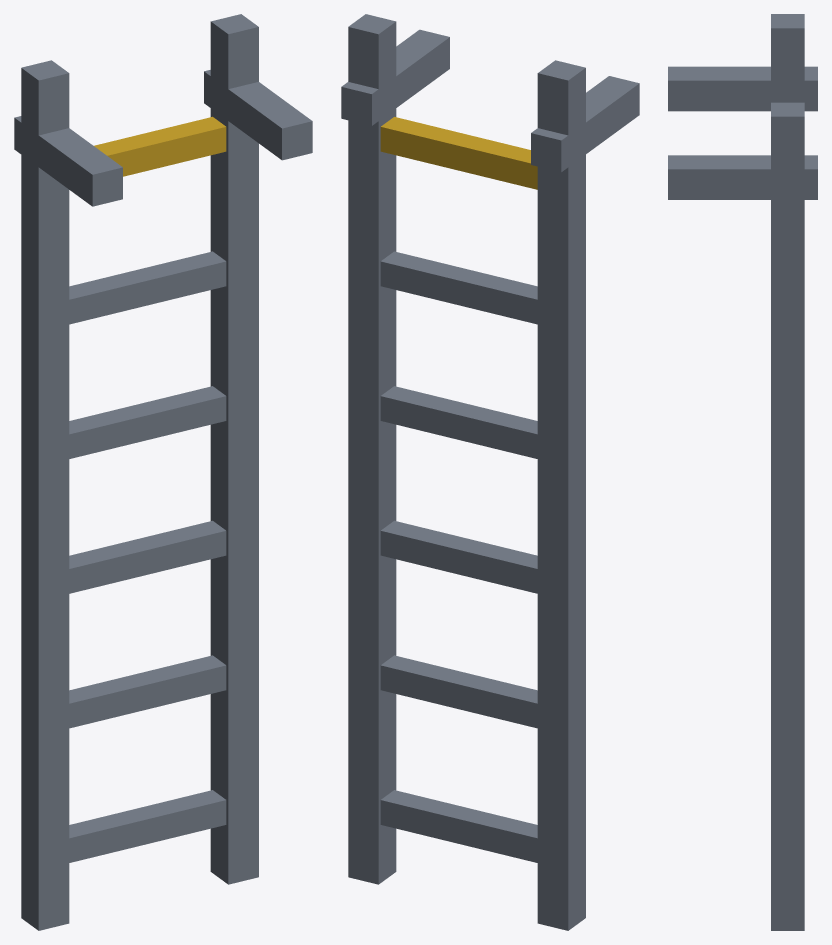
File: ladder.glb
3 renders of one model, left to right at view 1: azimuth 30°, elevation 25°; view 2: azimuth 150°, elevation 25°; view 3: azimuth 270°, elevation 25°, orthographic. The views are drawn at different scales.
Parts seen in each view (by area): view 1: ladder; view 2: ladder; view 3: ladder.
Boxes of the visible parts, x1=… form: ladder: x1=14, y1=14, x2=312, y2=930; ladder: x1=341, y1=14, x2=639, y2=930; ladder: x1=668, y1=14, x2=817, y2=930.
Bounding box in the file's own units: 0.65 × 2.4 × 0.4.
